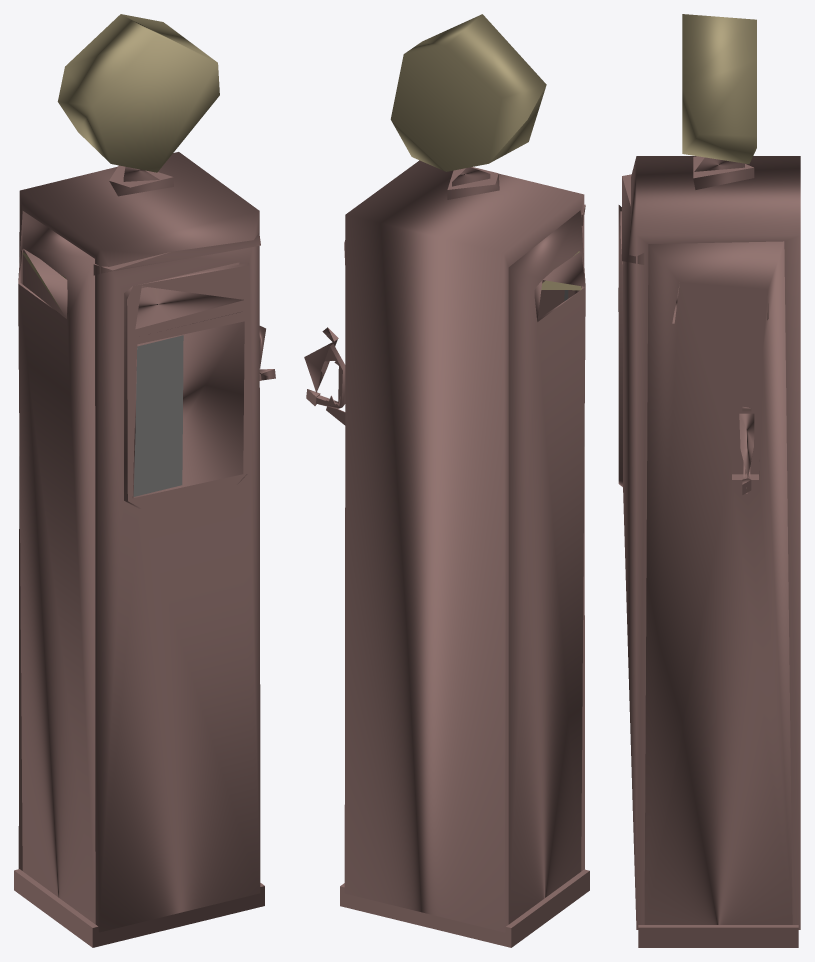
The model's file is gas-pump.lod0.glb.
3 views of the same model, side by side, from view 1: azimuth 30°, elevation 25°; view 2: azimuth 150°, elevation 25°; view 3: azimuth 270°, elevation 25° (orthographic). The views are drawn at different scales.
Parts seen in each view (by area): view 1: Vintage_Gas_Dispenser_GasDispenser_Main_0; view 2: Vintage_Gas_Dispenser_GasDispenser_Main_0; view 3: Vintage_Gas_Dispenser_GasDispenser_Main_0.
Part boxes in pixels (x1,y1,x2,y2): Vintage_Gas_Dispenser_GasDispenser_Main_0: [14, 14, 275, 947]; Vintage_Gas_Dispenser_GasDispenser_Main_0: [304, 14, 589, 947]; Vintage_Gas_Dispenser_GasDispenser_Main_0: [618, 14, 800, 947].
Size of the model in its own units: 0.5506 by 1.88 by 0.3489.
